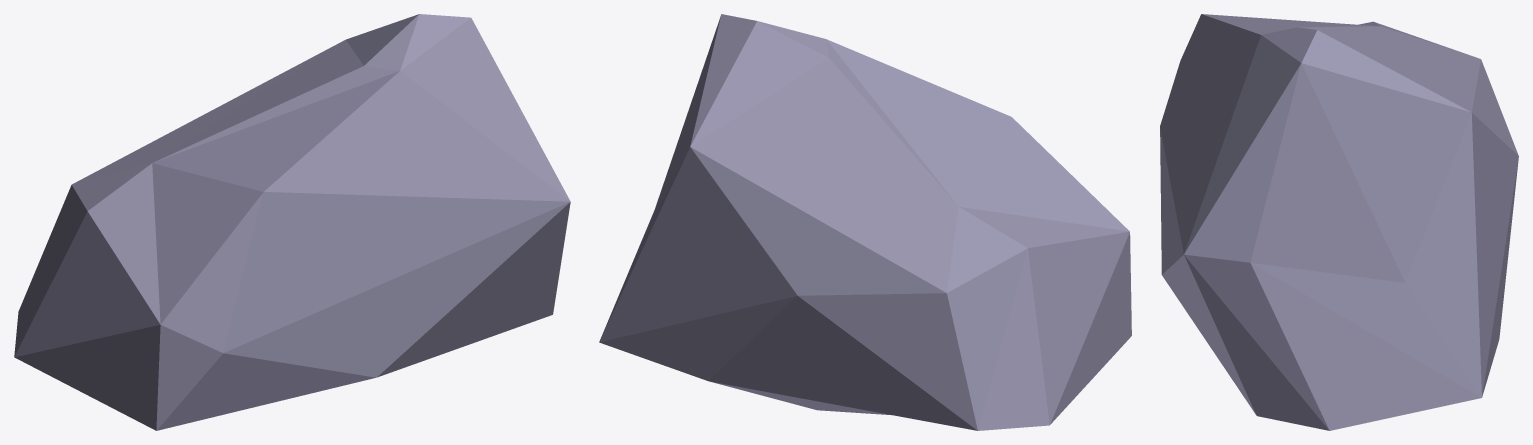
The model's file is rochamedia.fbx.
3 views of the same model, side by side, from view 1: azimuth 30°, elevation 25°; view 2: azimuth 150°, elevation 25°; view 3: azimuth 270°, elevation 25° (orthographic). The views are drawn at different scales.
Visible parts, largest first — view 1: pedra_média; view 2: pedra_média; view 3: pedra_média.
Part boxes in pixels (x1,y1,x2,y2): pedra_média: (14, 14, 570, 430); pedra_média: (599, 14, 1131, 430); pedra_média: (1160, 14, 1518, 430).
Size of the model in its own units: 21.78 by 14.53 by 12.87.
